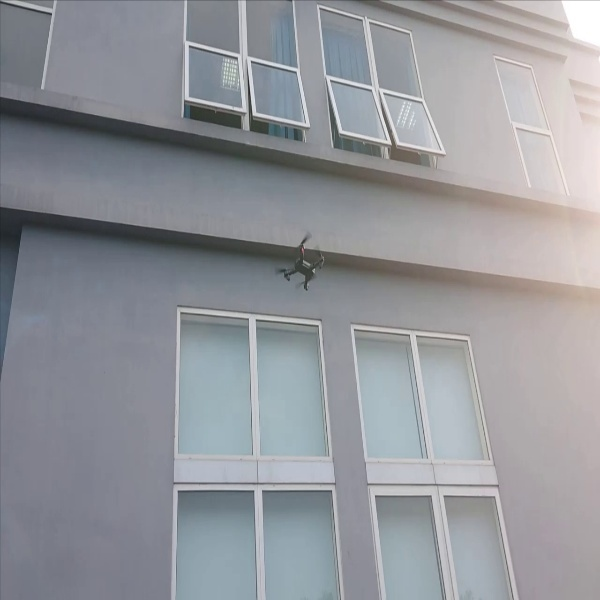drone: (272, 232, 332, 295)
